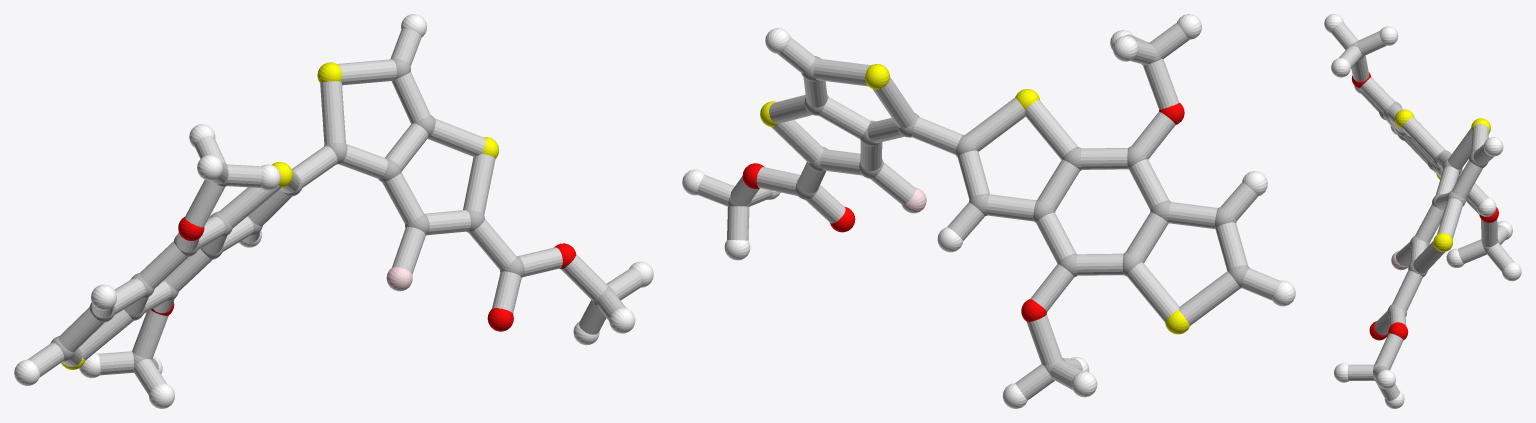
The model's file is color.glb.
3 renders of one model, left to right at view 1: azimuth 30°, elevation 25°; view 2: azimuth 150°, elevation 25°; view 3: azimuth 270°, elevation 25°, orthographic. The views are drawn at different scales.
Parts seen in each view (by area): view 1: grp15205, grp8689, grp1, grp13395, grp7241; view 2: grp15205, grp8689, grp1, grp7241, grp13395; view 3: grp15205, grp8689, grp1, grp7241, grp13395.
Part boxes in pixels (x1,y1,x2,y2): grp15205: (27, 28, 642, 395); grp8689: (14, 14, 653, 408); grp1: (50, 58, 615, 372); grp13395: (151, 217, 576, 331); grp7241: (61, 62, 499, 369); grp15205: (697, 23, 1279, 400); grp8689: (682, 14, 1295, 408); grp1: (728, 42, 1249, 374); grp7241: (760, 64, 1189, 334); grp13395: (742, 103, 1184, 321); grp15205: (1331, 22, 1514, 400); grp8689: (1324, 14, 1521, 408); grp1: (1350, 41, 1499, 381); grp7241: (1395, 109, 1490, 251); grp13395: (1351, 72, 1498, 340).
Size of the model in its own units: 16.54 by 8.19 by 5.99.
